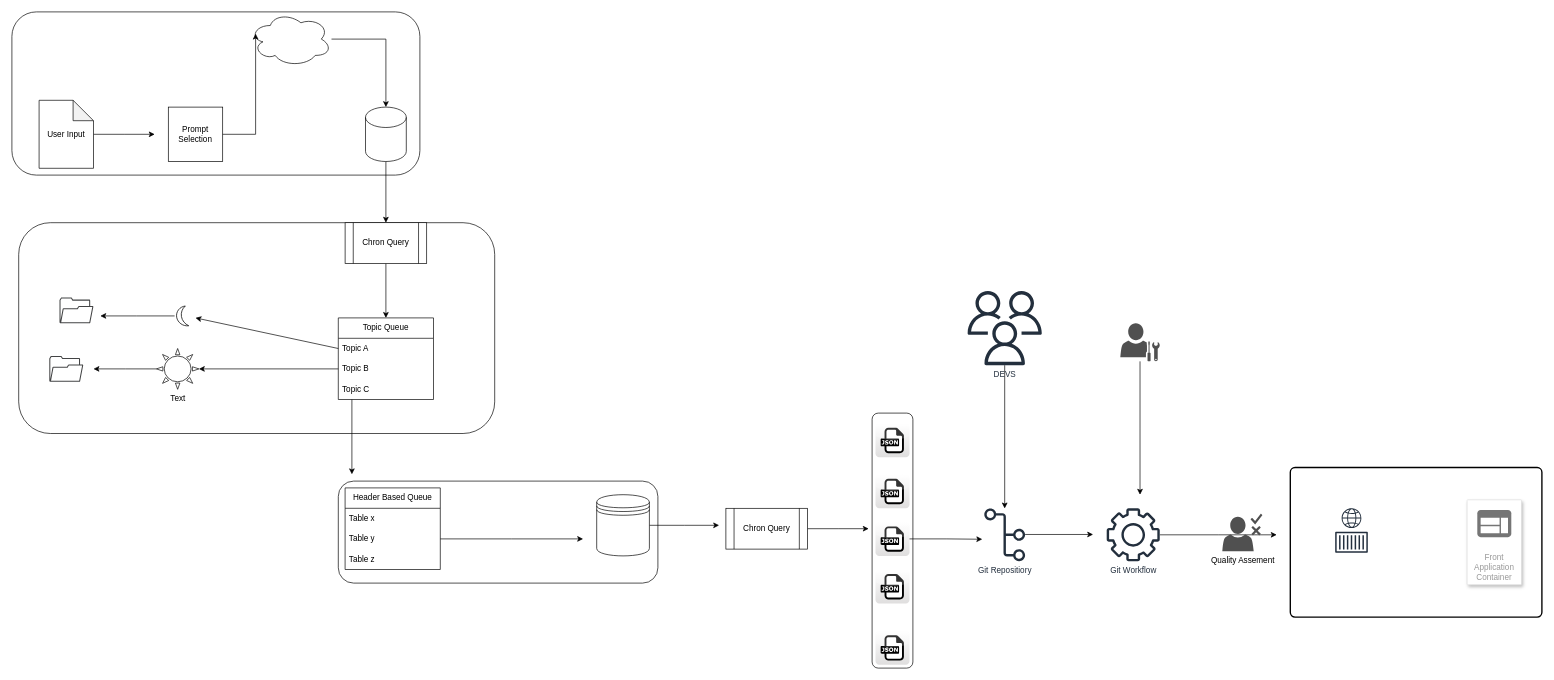
Image size: 1554x680. Some labels were removed from this diagram. The centre of each missing label's shape, as x and y in pixels:
"API Container(microservice)" belongs at point 1351,542.
"Audio" belongs at point 183,315.
"DEVOPS" belongs at point 1139,342.
"Local AI Server" belongs at point 290,38.
"SQLite3" belongs at point 385,134.
"WareHouse" belongs at point 622,525.
